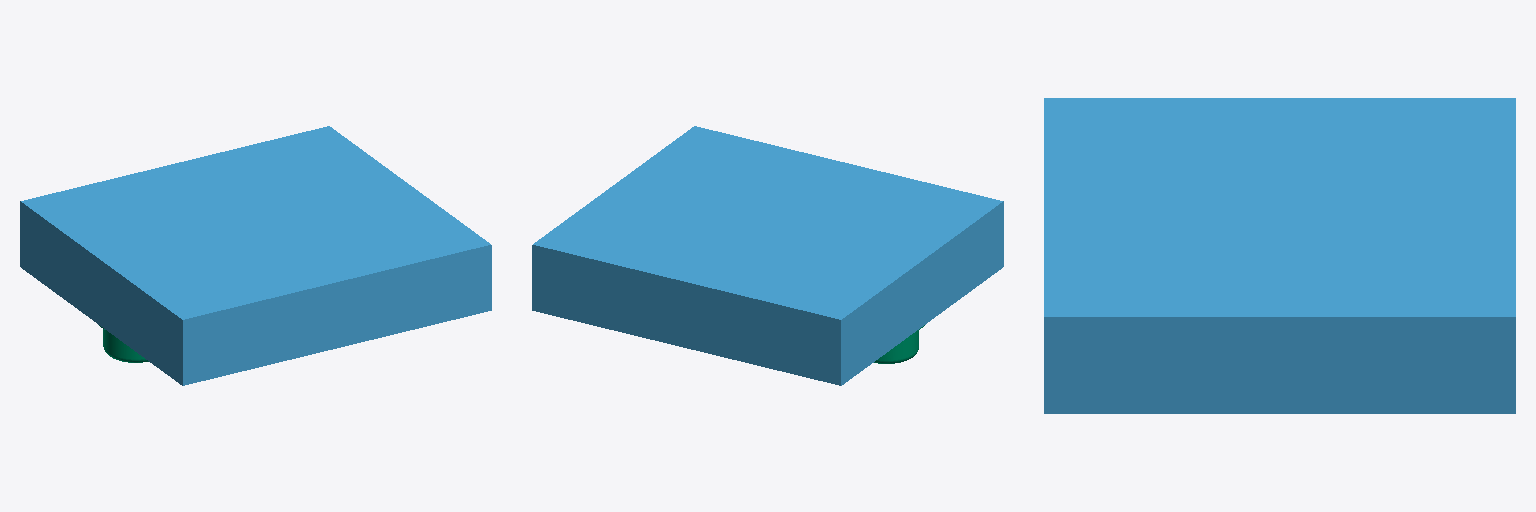
robot.urdf — my_robot:
<?xml version="1.0" ?>
<robot name="my_robot">
  <link name="base_footprint"/>

  <joint name="base_joint" type="fixed">
    <parent link="base_footprint"/>
    <child link="base_link"/>
    <origin xyz="0.0 0.0 0.010" rpy="0 0 0"/>
  </joint>

  <link name="base_link">
    <visual>
      <origin xyz="0.0 0 0.0" rpy="0 0 0"/>
      <geometry>
        <box size="0.220 0.200 0.045"/>
      </geometry>
      
    </visual>
  </link>

  <joint name="caster_back_joint" type="fixed">
    <parent link="base_link"/>
    <child link="caster_back_link"/>
    <origin xyz="-0.11 -0.035 -0.022" rpy="-1.57 0 0"/>
  </joint>

  <link name="caster_back_link">
    <visual>
      <origin xyz="0 0 0" rpy="0 0 0"/>
      <geometry>
        <mesh filename="package://my_bot/meshes/wheel_ball.STL" scale="0.001 0.001 0.001"/>
      </geometry>
      <material name="dark"/>
    </visual>

  </link>

  <joint name="wheel_left_joint" type="continuous">
    <parent link="base_link"/>
    <child link="wheel_left_link"/>
    <origin xyz="0.075 0.11 -0.011" rpy="-1.57 0 0"/>
    <axis xyz="0 0 1"/>
  </joint>

  <link name="wheel_left_link">
    <visual>
      <origin xyz="0 0 0" rpy="1.57 0 0"/>
      <geometry>
        <mesh filename="package://turtlebot3_description/meshes/wheels/left_tire.stl" scale="0.001 0.001 0.001"/>
      </geometry>
      <material name="dark"/>
    </visual>

    <collision>
      <origin xyz="0 0 0" rpy="0 0 0"/>
      <geometry>
        <cylinder length="0.018" radius="0.033"/>
      </geometry>
    </collision>

    <inertial>
      <origin xyz="0 0 0" />
      <mass value="2.8498940e-02" />
      <inertia ixx="1.1175580e-05" ixy="-4.2369783e-11" ixz="-5.9381719e-09"
               iyy="1.1192413e-05" iyz="-1.4400107e-11"
               izz="2.0712558e-05" />
      </inertial>
  </link>


  <joint name="wheel_right_joint" type="continuous">
    <parent link="base_link"/>
    <child link="wheel_right_link"/>
    <origin xyz="0.075 -0.11 -0.011" rpy="-1.57 0 0"/>
    <axis xyz="0 0 1"/>
  </joint>

  <link name="wheel_right_link">
    <visual>
      <origin xyz="0 0 0" rpy="1.57 0 0"/>
      <geometry>
        <mesh filename="package://turtlebot3_description/meshes/wheels/right_tire.stl" scale="0.001 0.001 0.001"/>
      </geometry>
      <material name="dark"/>
    </visual>

    <collision>
      <origin xyz="0 0 0" rpy="0 0 0"/>
      <geometry>
        <cylinder length="0.018" radius="0.033"/>
      </geometry>
    </collision>

    <inertial>
      <origin xyz="0 0 0" />
      <mass value="2.8498940e-02" />
      <inertia ixx="1.1175580e-05" ixy="-4.2369783e-11" ixz="-5.9381719e-09"
               iyy="1.1192413e-05" iyz="-1.4400107e-11"
               izz="2.0712558e-05" />
      </inertial>
  </link>


  <joint name="scan_joint" type="fixed">
    <parent link="base_link"/>
    <child link="laser"/>
    <origin xyz="0.0 0 0.045" rpy="0 0 0"/>
  </joint>

  <link name="laser">
    <visual>
      <origin xyz="0 0 0.0" rpy="0 0 0"/>
      <geometry>
        <mesh filename="package://turtlebot3_description/meshes/sensors/lds.stl" scale="0.001 0.001 0.001"/>
      </geometry>
      <material name="dark"/>
    </visual>

    <collision>
      <origin xyz="0.015 0 -0.0065" rpy="0 0 0"/>
      <geometry>
        <cylinder length="0.0315" radius="0.055"/>
      </geometry>
    </collision>

    <inertial>
      <mass value="0.114" />
      <origin xyz="0 0 0" />
      <inertia ixx="0.001" ixy="0.0" ixz="0.0"
               iyy="0.001" iyz="0.0"
               izz="0.001" />
    </inertial>

  </link>

</robot>

--- Render facts (derived) ---
Views: 3 orthographic renders of the robot side by side, from view 1: azimuth 30°, elevation 25°; view 2: azimuth 150°, elevation 25°; view 3: azimuth 270°, elevation 25°.
Robot: my_robot — 6 links, 5 joints (2 continuous, 3 fixed); root link base_footprint; default pose: every joint at zero.
Visible links, largest first — view 1: base_link, caster_back_link; view 2: base_link, caster_back_link; view 3: base_link.
Link boxes in pixels (bbox=[...]): base_link: bbox=[20, 126, 491, 385]; caster_back_link: bbox=[99, 325, 148, 362]; base_link: bbox=[532, 126, 1003, 385]; caster_back_link: bbox=[874, 325, 924, 363]; base_link: bbox=[1044, 98, 1515, 413].
Bounding box of the posed robot: 0.22 × 0.2 × 0.0745 m (x, y, z).
Meshes: 4 distinct files referenced, 1 mesh visuals loaded (1 binary STL); not drawn: 3 (reference not matched to a file when rendering).